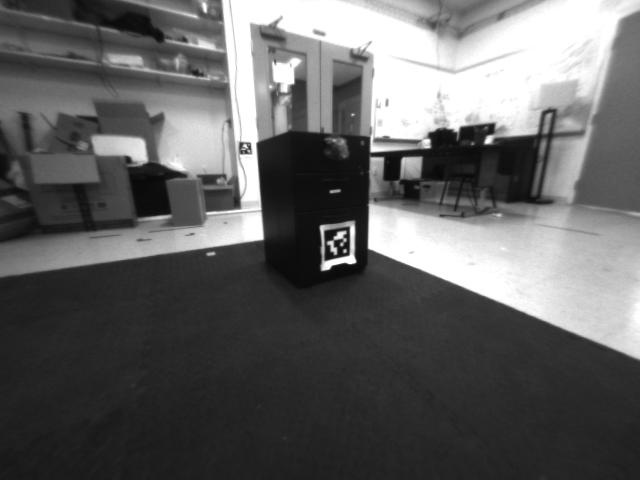drawer: (318, 131, 353, 169)
